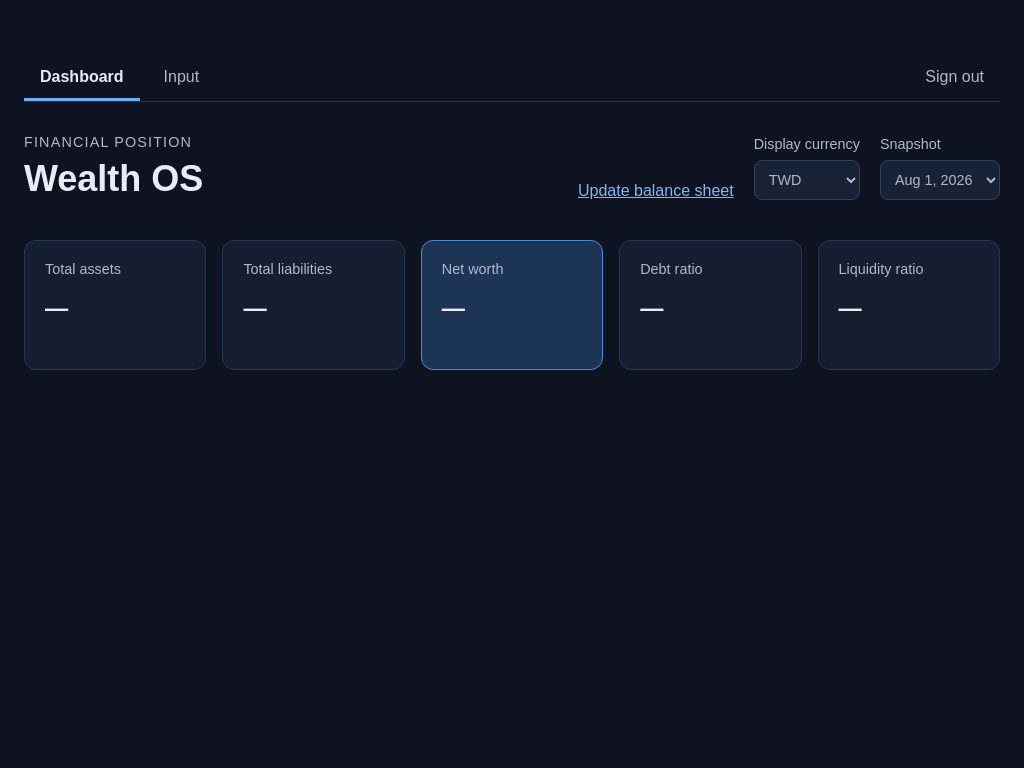
Dashboard › does not let an earlier snapshot response overwrite the selected snapshot
Select "Jul 1, 2026" in the dropdown labelled "Snapshot" at (940, 180), box [880,160,1000,200]
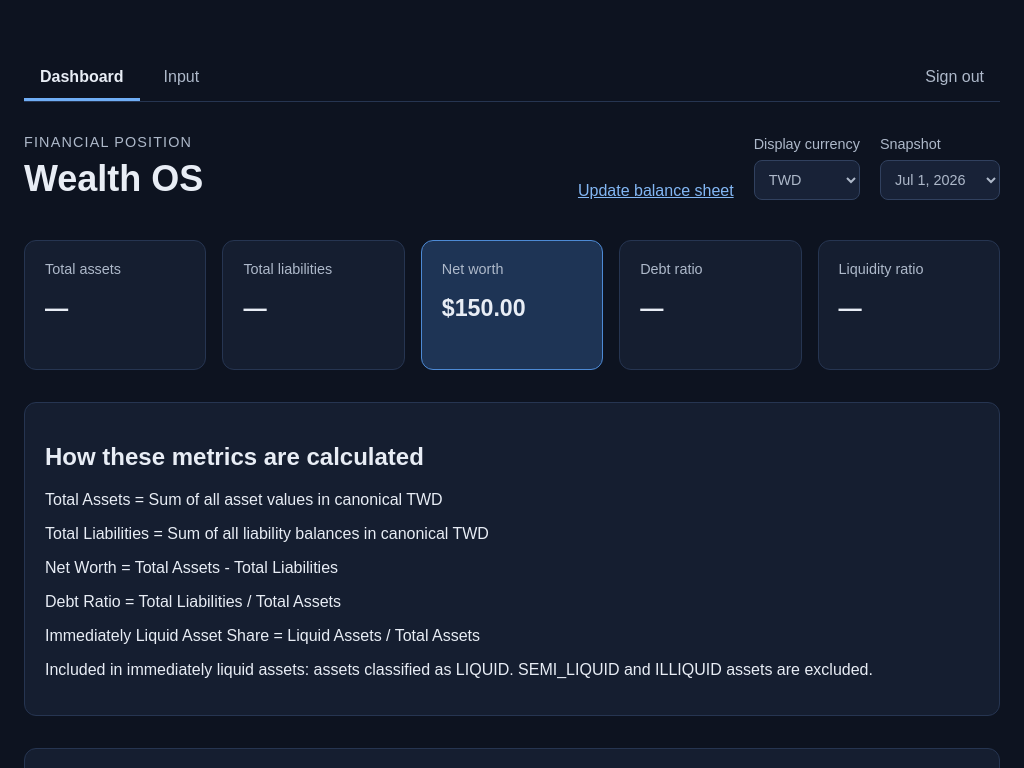
expect the text "$150.00" is shown: met, box [442,295,526,321]
